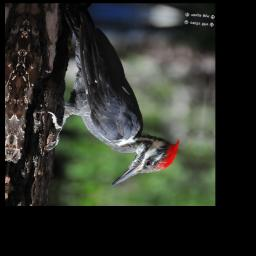Woodpecker: (39, 7, 196, 192)
